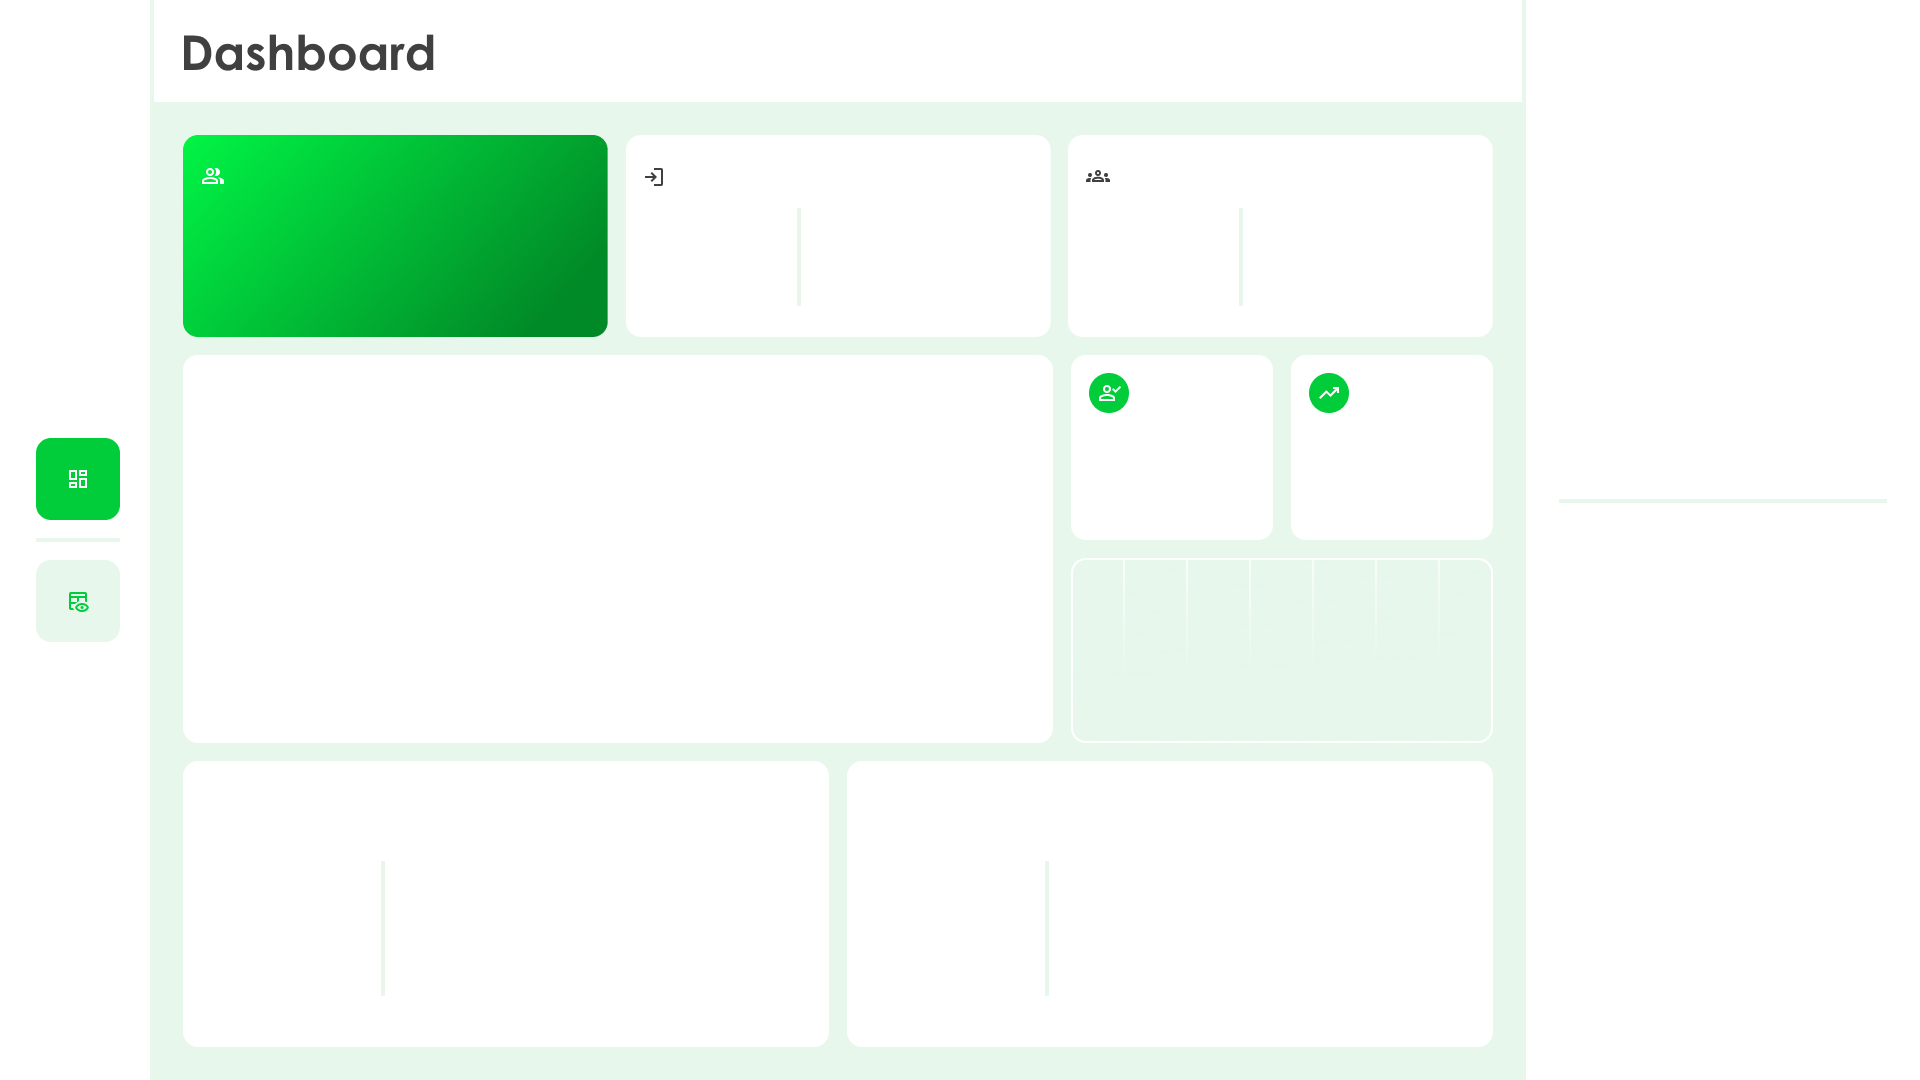

The dashboard page shown, as its layout file describes it:
{"tool":"powerbi","page":{"name":"Dashboard","canvas":[1280,720],"ordinal":0},"visuals":[{"type":"textbox","box":[550.3,125.5,188.2,84.5],"z":0,"group":"g5"},{"type":"textbox","box":[137.8,130,105.5,63.5],"z":0,"group":"g3"},{"type":"textbox","box":[431.1,130,86.9,63.8],"z":0,"group":"g4"},{"type":"textbox","box":[728.4,130,87.1,63.5],"z":0,"group":"g12"},{"type":"textbox","box":[844.8,130,123,79],"z":0,"group":"g13"},{"type":"textbox","box":[867,295.2,87.5,63.5],"z":0,"group":"g7"},{"type":"textbox","box":[720,295.4,87.3,63.3],"z":0,"group":"g6"},{"type":"barChart","fields":{"Series":["Dim_Users.segment"],"Y":["_Measures.Total Users"]},"box":[1038.8,381.8,220,52.9],"z":0},{"type":"multiRowCard","fields":{"Values":["_Measures.African Segment"]},"box":[1039.4,472.9,220,31.4],"z":0,"group":"g14"},{"type":"group","id":"g1","title":"Group 6","box":[259.1,570,266.7,97.8],"z":0,"group":"g10"},{"type":"donutChart","fields":{"Y":["_Measures.Total Users"],"Category":["Dim_Users.role"]},"box":[259.1,570,157.8,97.8],"z":0,"group":"g1"},{"type":"donutChart","fields":{"Y":["_Measures.Total Users"],"Category":["Dim_Users.metrics_inclusion_status"]},"box":[700,570.3,157.1,97.1],"z":0,"group":"g11"},{"type":"textbox","box":[136.1,572.1,105.5,63.5],"z":0,"group":"g8"},{"type":"textbox","box":[578.5,572.5,105.5,63.5],"z":0,"group":"g9"},{"type":"textbox","box":[388,593.3,137.8,28.9],"z":0,"group":"g2"},{"type":"textbox","box":[138.1,180.4,50,28],"z":1000,"group":"g3"},{"type":"textbox","box":[434.6,180.4,50,28],"z":1000,"group":"g4"},{"type":"textbox","box":[728.8,180.4,50,28],"z":1000,"group":"g12"},{"type":"textbox","box":[844.9,180.5,118.2,28.2],"z":1000,"group":"g13"},{"type":"textbox","box":[550.3,181,118.2,28.2],"z":1000,"group":"g5"},{"type":"textbox","box":[720.7,278.7,118,28],"z":1000,"group":"g6"},{"type":"textbox","box":[867,278.7,118,28],"z":1000,"group":"g7"},{"type":"cardVisual","title":"selected user","fields":{"Data":["_Measures.Selected User"]},"box":[1038.3,289.2,218.3,25.8],"z":1000},{"type":"multiRowCard","fields":{"Values":["_Measures.Asia Segment"]},"box":[1039.4,510,220,31.4],"z":1000,"group":"g14"},{"type":"textbox","box":[830,593.2,138.6,30],"z":1000,"group":"g11"},{"type":"group","id":"g2","title":"Group 5","box":[388,593.3,137.8,54.4],"z":1000,"group":"g1"},{"type":"textbox","box":[388,618.9,137.8,28.9],"z":1000,"group":"g2"},{"type":"textbox","box":[136.3,635.3,105.7,28.6],"z":1000,"group":"g8"},{"type":"textbox","box":[578.7,635.7,105.7,28.6],"z":1000,"group":"g9"},{"type":"textbox","box":[722,375.3,118,28.7],"z":2000},{"type":"multiRowCard","fields":{"Values":["_Measures.Canadian Segment"]},"box":[1039.6,547,220,31.5],"z":2000,"group":"g14"},{"type":"textbox","box":[830,618.9,138.6,28.6],"z":2000,"group":"g11"},{"type":"textbox","box":[1039,372.5,219.5,17],"z":3000},{"type":"multiRowCard","fields":{"Values":["_Measures.European Segment"]},"box":[1039.6,583,220,31.5],"z":3000,"group":"g14"},{"type":"group","id":"g3","title":"Group 1","box":[137.8,130,105.5,78.4],"z":4000},{"type":"multiRowCard","fields":{"Values":["_Measures.Oceania Segment"]},"box":[1039.6,619.5,220,31.5],"z":4000,"group":"g14"},{"type":"group","id":"g4","title":"Group 2","box":[431.1,130,86.9,78.4],"z":5000},{"type":"group","id":"g5","title":"Group 2","box":[550.3,125.5,188.2,84.5],"z":6000},{"type":"textbox","box":[720.8,326.7,117.5,28.3],"z":7000},{"type":"clusteredColumnChart","fields":{"Y":["_Measures.Total Logins"],"Category":["Dim_Calendar.Month-Year"]},"box":[137.3,282.7,549,202.7],"z":8000},{"type":"advancedSlicerVisual","fields":{"Values":["_Dynamic Legend._Dynamic Legend"]},"box":[382.7,246.4,310,33.6],"z":9000},{"type":"group","id":"g6","title":"Group 3","box":[720,278.7,118.7,80],"z":10000},{"type":"group","id":"g7","title":"Group 3","box":[867,278.7,118,80],"z":11000},{"type":"group","id":"g8","title":"Group 1","box":[136.1,572.1,105.9,91.8],"z":12000},{"type":"group","id":"g9","title":"Group 1","box":[578.5,572.5,106.7,92.2],"z":13000},{"type":"group","id":"g10","title":"Group 4","box":[259.1,570,266.7,97.8],"z":14000},{"type":"group","id":"g11","title":"Group 4","box":[700,570.3,268.6,97.1],"z":15000},{"type":"areaChart","fields":{"Y":["_Measures.Total Active Users Trend"],"Category":["Dim_Calendar.Month-Year"]},"box":[711.2,400,286.2,93.8],"z":16000},{"type":"textbox","box":[866.7,326.7,117.5,28.3],"z":17000},{"type":"actionButton","box":[1039,22.5,219.5,36],"z":18000},{"type":"textSlicer","fields":{"Values":["Dim_Users.full_name"]},"box":[1064,22.5,194.5,36],"z":19000},{"type":"pivotTable","fields":{"Rows":["Dim_Users.segment","Dim_Users.full_name"],"Values":["_Measures.Total Logins"]},"box":[1039.5,60,219,223],"z":20000},{"type":"group","id":"g12","title":"Group 2","box":[728.4,130,87.1,78.4],"z":21000},{"type":"group","id":"g13","title":"Group 2","box":[844.8,130,123,79],"z":22000},{"type":"textbox","box":[1039,349,235.5,27],"z":23000},{"type":"advancedSlicerVisual","fields":{"Values":["_Value Format Toggle.Format"]},"box":[1038.8,427.6,140,32.9],"z":24000},{"type":"group","id":"g14","title":"Group 7","box":[1039.4,472.9,220,178.2],"z":25000},{"type":"textbox","box":[752.7,103.3,72,26.7],"z":26000},{"type":"textbox","box":[161.3,104,72,26.7],"z":27000},{"type":"textbox","box":[135.8,520.8,233.3,26.7],"z":28000},{"type":"textbox","box":[452.7,103.3,72,26.7],"z":29000},{"type":"textbox","box":[578.8,520.6,232.9,26.5],"z":30000},{"type":"textbox","box":[135.8,250,233.3,26.7],"z":31000},{"type":"actionButton","title":"Button Clear Slicers","box":[898.9,16.7,94.4,35.6],"z":32000},{"type":"actionButton","title":"Button Segment Open","box":[701.2,16.9,92.7,35.4],"z":33000},{"type":"actionButton","title":"Button Role Open","box":[609.1,17.2,92.7,35.2],"z":34000},{"type":"actionButton","title":"Button Metrics Open","box":[794,17,93,35],"z":35000},{"type":"actionButton","title":"Button Year Open","box":[516.9,17.5,92.5,35],"z":36000},{"type":"card","fields":{"Values":["_Measures.Login Trend Mark"]},"box":[585.3,182,26,28.7],"z":41000},{"type":"textbox","box":[721.7,395,88.3,37.5],"z":42000},{"type":"card","fields":{"Values":["_Measures.ActiveUsersTrendMark"]},"box":[720,418.8,27.5,28.8],"z":43000}]}

Visuals, with their boxes in screenshot pixels (x1, y1, x2, y2), scaled from the page's 1280x720 canvas onto the 1920x1080 screenshot:
textbox: x1=825, y1=188, x2=1108, y2=315
textbox: x1=207, y1=195, x2=365, y2=290
textbox: x1=647, y1=195, x2=777, y2=291
textbox: x1=1093, y1=195, x2=1223, y2=290
textbox: x1=1267, y1=195, x2=1452, y2=314
textbox: x1=1300, y1=443, x2=1432, y2=538
textbox: x1=1080, y1=443, x2=1211, y2=538
barChart - Dim_Users.segment x _Measures.Total Users: x1=1558, y1=573, x2=1888, y2=652
multiRowCard - _Measures.African Segment: x1=1559, y1=709, x2=1889, y2=756
"Group 6" group: x1=389, y1=855, x2=789, y2=1002
donutChart - _Measures.Total Users x Dim_Users.role: x1=389, y1=855, x2=625, y2=1002
donutChart - _Measures.Total Users x Dim_Users.metrics_inclusion_status: x1=1050, y1=855, x2=1286, y2=1001
textbox: x1=204, y1=858, x2=362, y2=953
textbox: x1=868, y1=859, x2=1026, y2=954
textbox: x1=582, y1=890, x2=789, y2=933
textbox: x1=207, y1=271, x2=282, y2=313
textbox: x1=652, y1=271, x2=727, y2=313
textbox: x1=1093, y1=271, x2=1168, y2=313
textbox: x1=1267, y1=271, x2=1445, y2=313
textbox: x1=825, y1=272, x2=1003, y2=314
textbox: x1=1081, y1=418, x2=1258, y2=460
textbox: x1=1300, y1=418, x2=1478, y2=460
"selected user" cardVisual: x1=1557, y1=434, x2=1885, y2=472
multiRowCard - _Measures.Asia Segment: x1=1559, y1=765, x2=1889, y2=812
textbox: x1=1245, y1=890, x2=1453, y2=935
"Group 5" group: x1=582, y1=890, x2=789, y2=972
textbox: x1=582, y1=928, x2=789, y2=972
textbox: x1=204, y1=953, x2=363, y2=996
textbox: x1=868, y1=954, x2=1027, y2=996
textbox: x1=1083, y1=563, x2=1260, y2=606
multiRowCard - _Measures.Canadian Segment: x1=1559, y1=820, x2=1889, y2=868
textbox: x1=1245, y1=928, x2=1453, y2=971
textbox: x1=1558, y1=559, x2=1888, y2=584
multiRowCard - _Measures.European Segment: x1=1559, y1=874, x2=1889, y2=922
"Group 1" group: x1=207, y1=195, x2=365, y2=313
multiRowCard - _Measures.Oceania Segment: x1=1559, y1=929, x2=1889, y2=976
"Group 2" group: x1=647, y1=195, x2=777, y2=313
"Group 2" group: x1=825, y1=188, x2=1108, y2=315
textbox: x1=1081, y1=490, x2=1257, y2=532
clusteredColumnChart - _Measures.Total Logins x Dim_Calendar.Month-Year: x1=206, y1=424, x2=1029, y2=728
advancedSlicerVisual - _Dynamic Legend._Dynamic Legend: x1=574, y1=370, x2=1039, y2=420
"Group 3" group: x1=1080, y1=418, x2=1258, y2=538
"Group 3" group: x1=1300, y1=418, x2=1478, y2=538
"Group 1" group: x1=204, y1=858, x2=363, y2=996
"Group 1" group: x1=868, y1=859, x2=1028, y2=997
"Group 4" group: x1=389, y1=855, x2=789, y2=1002
"Group 4" group: x1=1050, y1=855, x2=1453, y2=1001
areaChart - _Measures.Total Active Users Trend x Dim_Calendar.Month-Year: x1=1067, y1=600, x2=1496, y2=741
textbox: x1=1300, y1=490, x2=1476, y2=532
actionButton: x1=1558, y1=34, x2=1888, y2=88
textSlicer - Dim_Users.full_name: x1=1596, y1=34, x2=1888, y2=88
pivotTable - Dim_Users.segment x Dim_Users.full_name: x1=1559, y1=90, x2=1888, y2=424
"Group 2" group: x1=1093, y1=195, x2=1223, y2=313
"Group 2" group: x1=1267, y1=195, x2=1452, y2=314
textbox: x1=1558, y1=524, x2=1912, y2=564
advancedSlicerVisual - _Value Format Toggle.Format: x1=1558, y1=641, x2=1768, y2=691
"Group 7" group: x1=1559, y1=709, x2=1889, y2=977
textbox: x1=1129, y1=155, x2=1237, y2=195
textbox: x1=242, y1=156, x2=350, y2=196
textbox: x1=204, y1=781, x2=554, y2=821
textbox: x1=679, y1=155, x2=787, y2=195
textbox: x1=868, y1=781, x2=1218, y2=821
textbox: x1=204, y1=375, x2=554, y2=415
"Button Clear Slicers" actionButton: x1=1348, y1=25, x2=1490, y2=78
"Button Segment Open" actionButton: x1=1052, y1=25, x2=1191, y2=78
"Button Role Open" actionButton: x1=914, y1=26, x2=1053, y2=79
"Button Metrics Open" actionButton: x1=1191, y1=26, x2=1330, y2=78
"Button Year Open" actionButton: x1=775, y1=26, x2=914, y2=79
card - _Measures.Login Trend Mark: x1=878, y1=273, x2=917, y2=316
textbox: x1=1083, y1=592, x2=1215, y2=649
card - _Measures.ActiveUsersTrendMark: x1=1080, y1=628, x2=1121, y2=671
